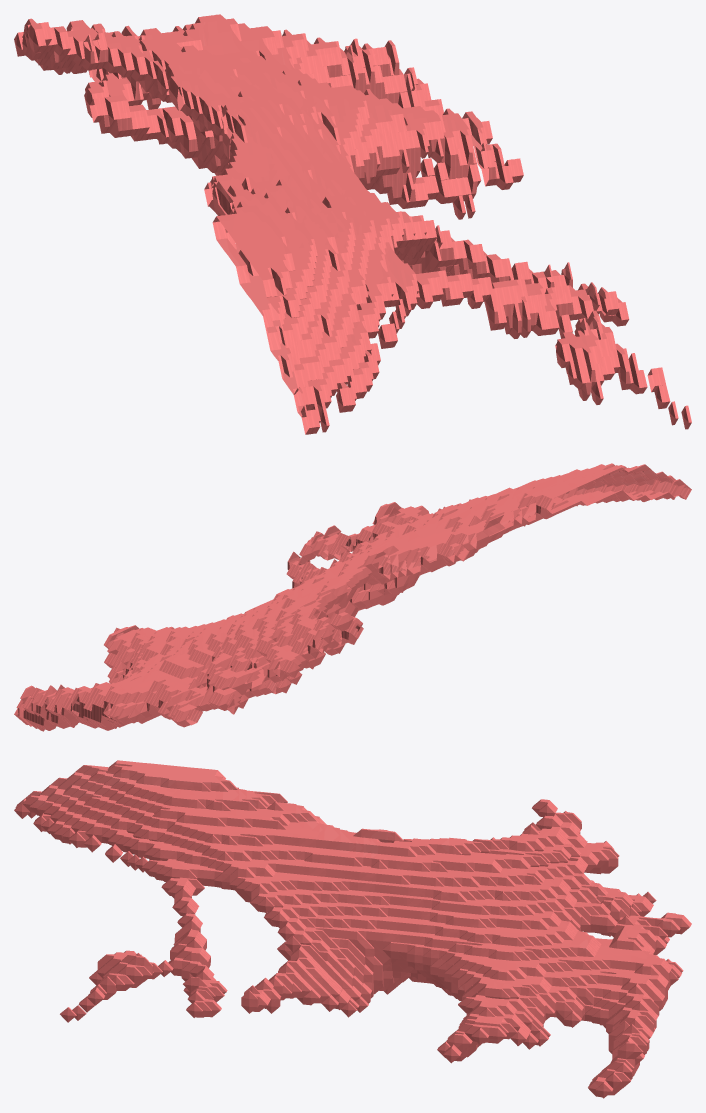
File: SVV_BWM-VL05.gltf
3 views of the same model, one above another, from view 1: azimuth 30°, elevation 25°; view 2: azimuth 150°, elevation 25°; view 3: azimuth 270°, elevation 25° (orthographic). The views are drawn at different scales.
Parts seen in each view (by area): view 1: BWM-VL05; view 2: BWM-VL05; view 3: BWM-VL05.
Boxes of the visible parts, left/top/right/bottom form: BWM-VL05: left=14, top=14, right=691, bottom=434; BWM-VL05: left=14, top=463, right=691, bottom=731; BWM-VL05: left=14, top=760, right=691, bottom=1098.
Size of the model in its own units: 33751 by 13836 by 52064.
